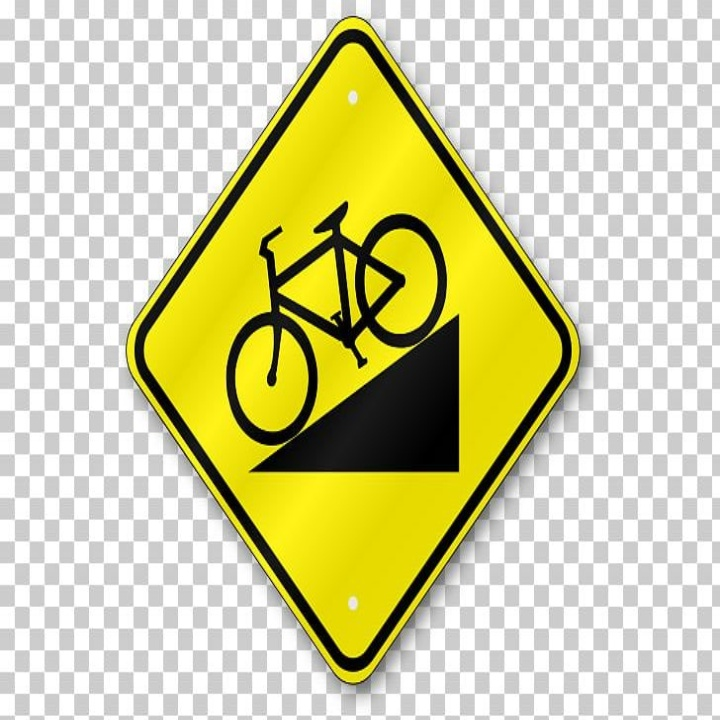bicycle: (217, 199, 453, 447)
